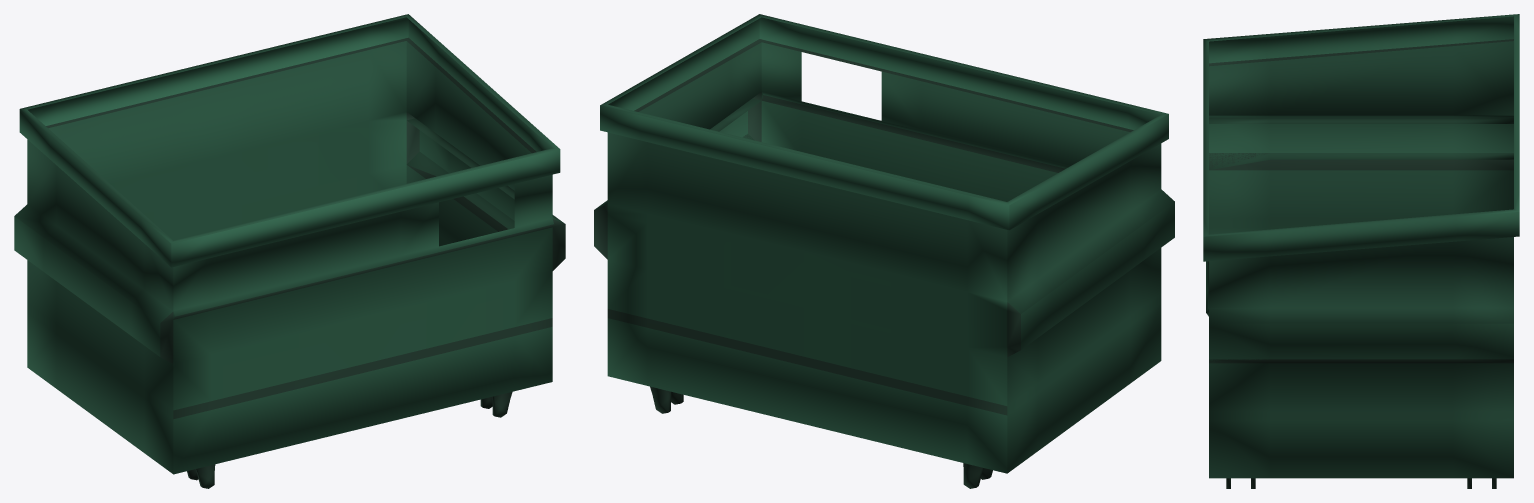
3 views of the same model, side by side, from view 1: azimuth 30°, elevation 25°; view 2: azimuth 150°, elevation 25°; view 3: azimuth 270°, elevation 25° (orthographic). The views are drawn at different scales.
Parts seen in each view (by area): view 1: color.005; view 2: color.005; view 3: color.005.
Part boxes in pixels (<box>): color.005: <box>14,14,565,488</box>; color.005: <box>594,14,1174,488</box>; color.005: <box>1203,14,1519,488</box>.
Size of the model in its own units: 0.5 by 0.3407 by 0.324.
